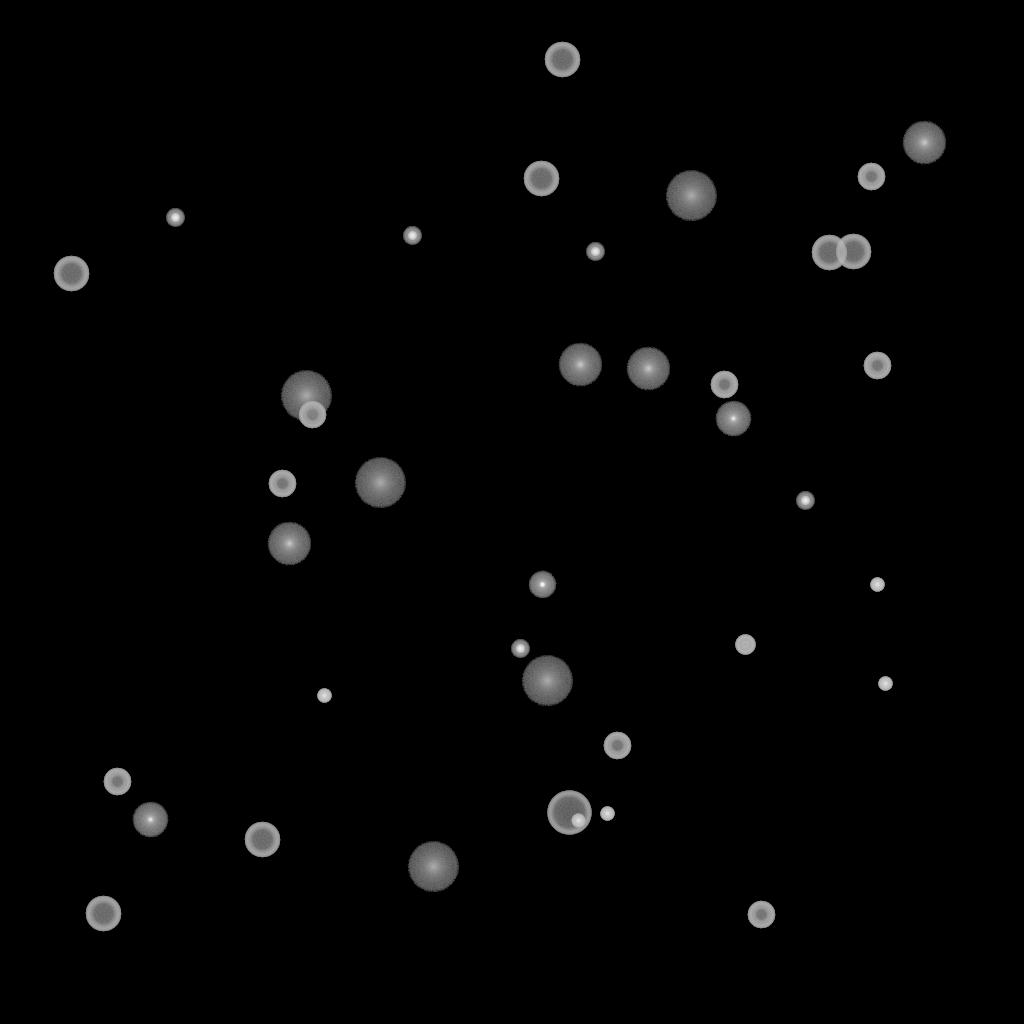depth:-10: (528, 571, 556, 599)
depth:-20: (796, 492, 814, 510), (403, 227, 421, 245), (586, 243, 604, 261), (166, 209, 184, 227), (511, 640, 529, 658)
depth:-30: (571, 814, 585, 828), (870, 578, 884, 592), (878, 677, 892, 691), (317, 689, 331, 703), (600, 807, 614, 821)
depth:-40: (735, 635, 755, 655)
depth:-50: (103, 768, 131, 796), (747, 901, 775, 929), (863, 352, 891, 380), (603, 732, 631, 760), (710, 371, 738, 399), (857, 163, 885, 191), (298, 401, 326, 429), (268, 470, 296, 498)
depth:-60: (835, 234, 871, 270), (244, 822, 280, 858), (523, 161, 559, 197), (544, 42, 580, 78), (53, 256, 89, 292), (811, 235, 847, 271), (85, 896, 121, 932)
depth:-70: (547, 791, 591, 835)
depth:0: (715, 401, 751, 437), (132, 802, 168, 838)
depth:10: (626, 347, 670, 391), (267, 522, 311, 566), (902, 121, 946, 165), (558, 343, 602, 387)
depth:20: (665, 171, 717, 221), (280, 371, 332, 421), (407, 842, 459, 892), (521, 656, 573, 706), (354, 458, 406, 508)
